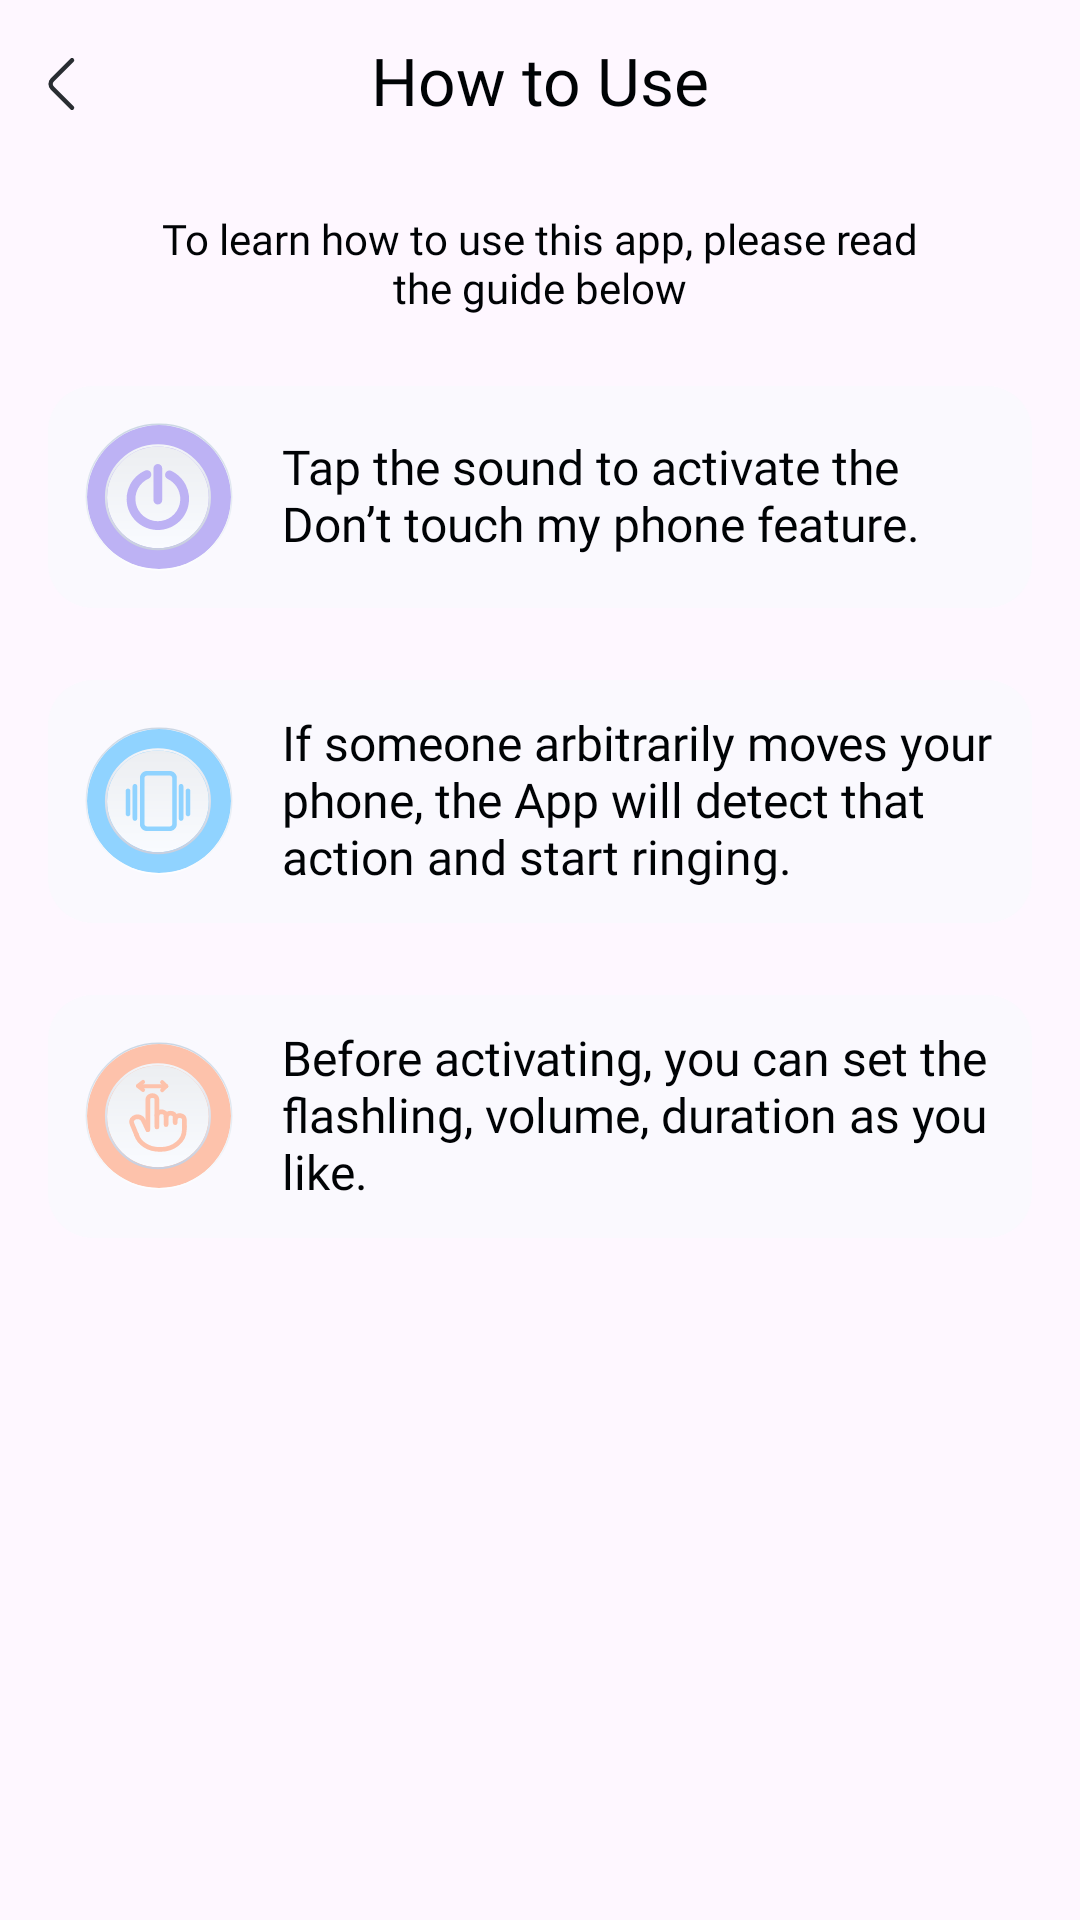

Named icons in this screenshot (1080px×1920px) and their bounding boxes, bbox=(x1, y1, x2, y2):
back: bbox=(48, 58, 75, 110)
